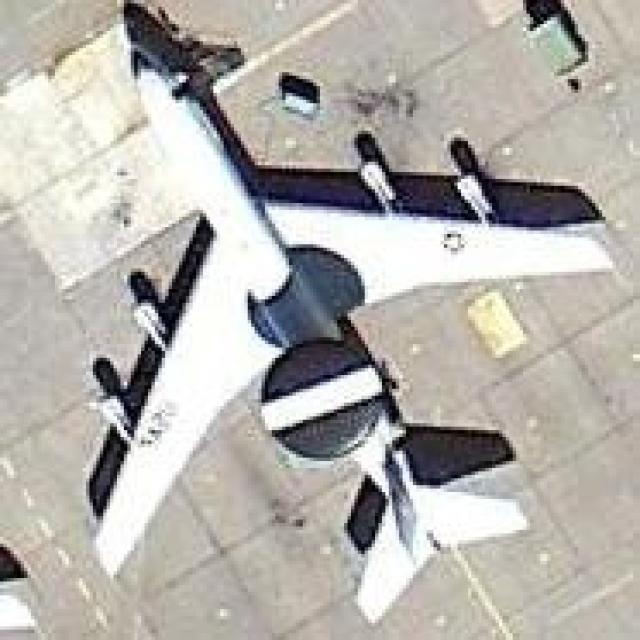E-3_TopDown: (69, 0, 616, 623)
